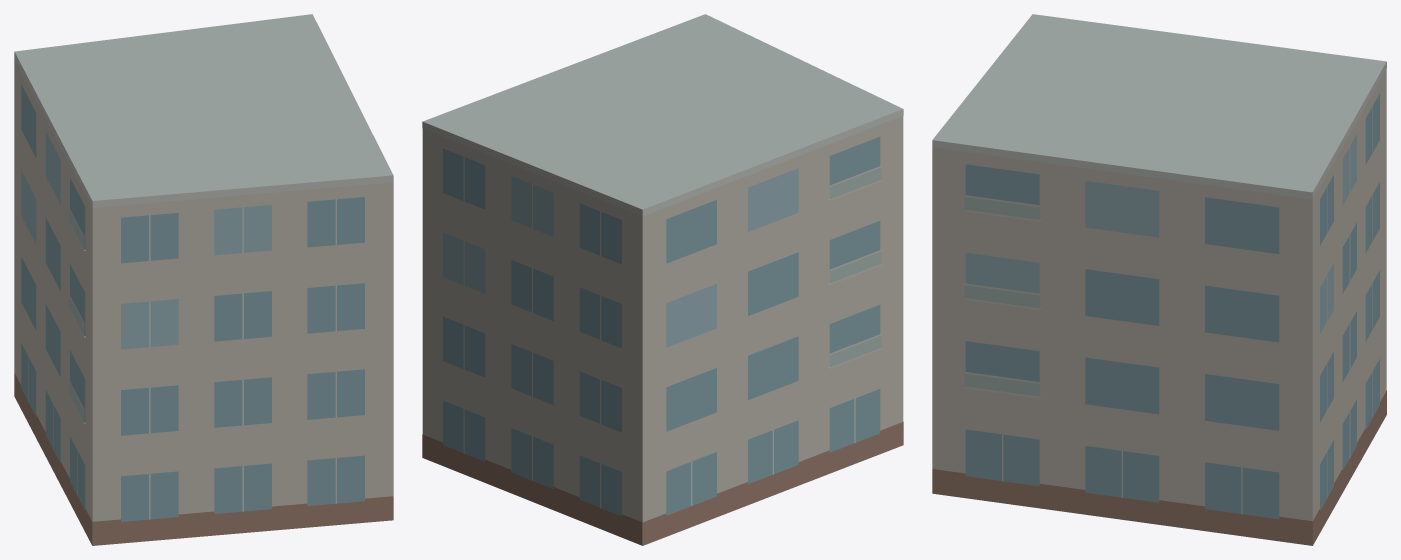
Rendered from survey-upis-32653770.glb.
3 renders of one model, left to right at view 1: azimuth 30°, elevation 25°; view 2: azimuth 150°, elevation 25°; view 3: azimuth 270°, elevation 25°, orthographic. The views are drawn at different scales.
Parts seen in each view (by area): view 1: survey-upis-32653770.tmp; view 2: survey-upis-32653770.tmp; view 3: survey-upis-32653770.tmp.
Part boxes in pixels (bbox=[...]): survey-upis-32653770.tmp: bbox=[14, 14, 393, 545]; survey-upis-32653770.tmp: bbox=[422, 14, 903, 545]; survey-upis-32653770.tmp: bbox=[932, 14, 1386, 545].
Bounding box in the file's own units: 13.22 × 12.2 × 14.23.
